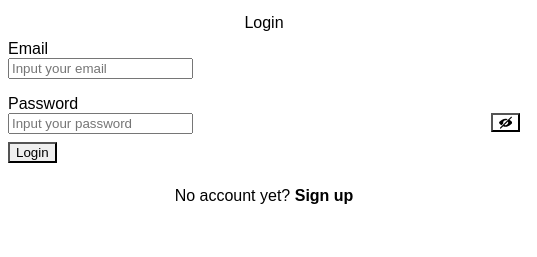
Test: Login Form Email-based Component › should display error message on email
Type "hello@g" into the field named "email-input" at (100, 68), box [8, 58, 193, 79]
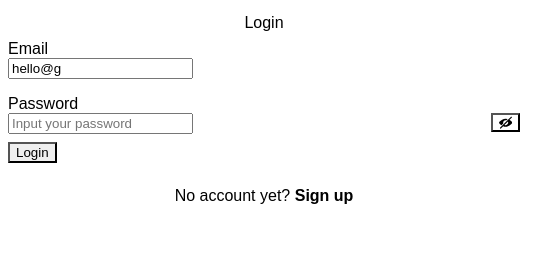
Click the button "Login" at (32, 152), box [8, 142, 57, 163]
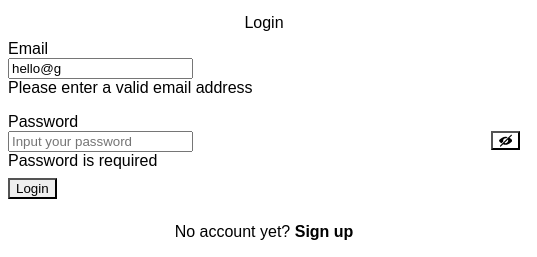
Expected: the text "Please enter a valid email address" is shown, [8, 79, 253, 96]
